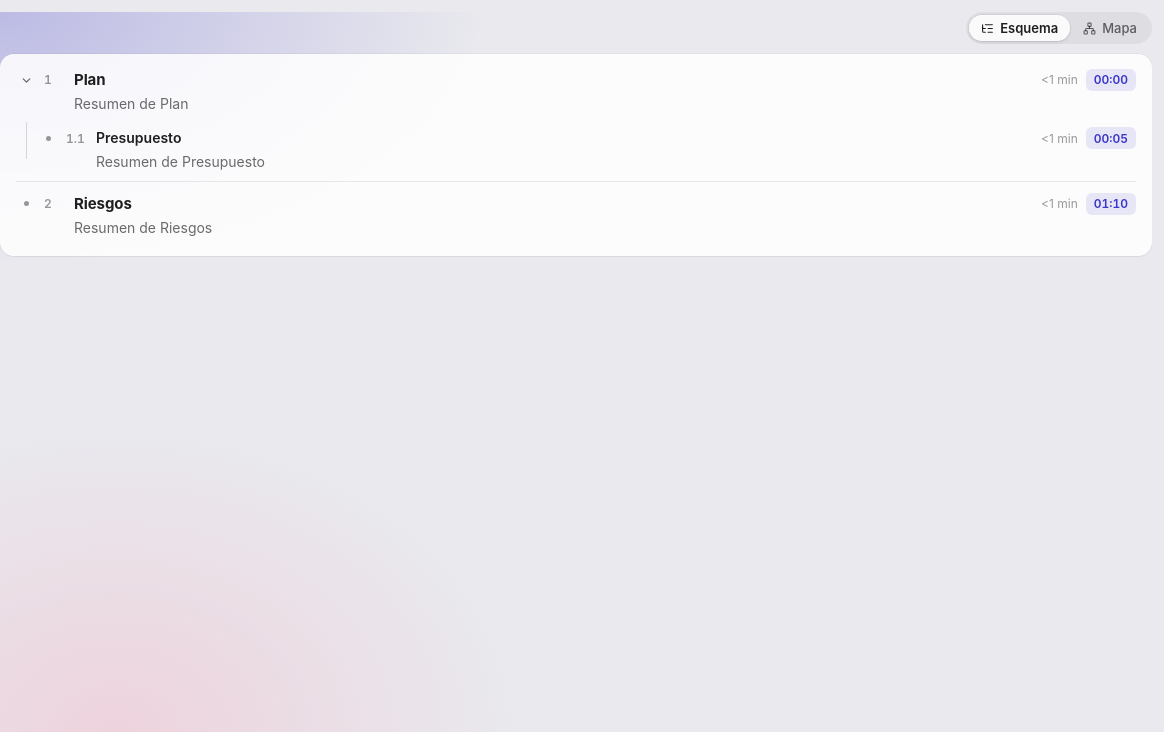
Test: EscaletaTab › pinta el árbol y colapsa subtemas
expect the text "Presupuesto" is shown: met, box left=96, top=129, right=181, bottom=146
What coordinates should you click on to do the following:
click the button named "Contraer Plan"
I would click on:
 (26, 80)
Its box is left=16, top=70, right=36, bottom=90.
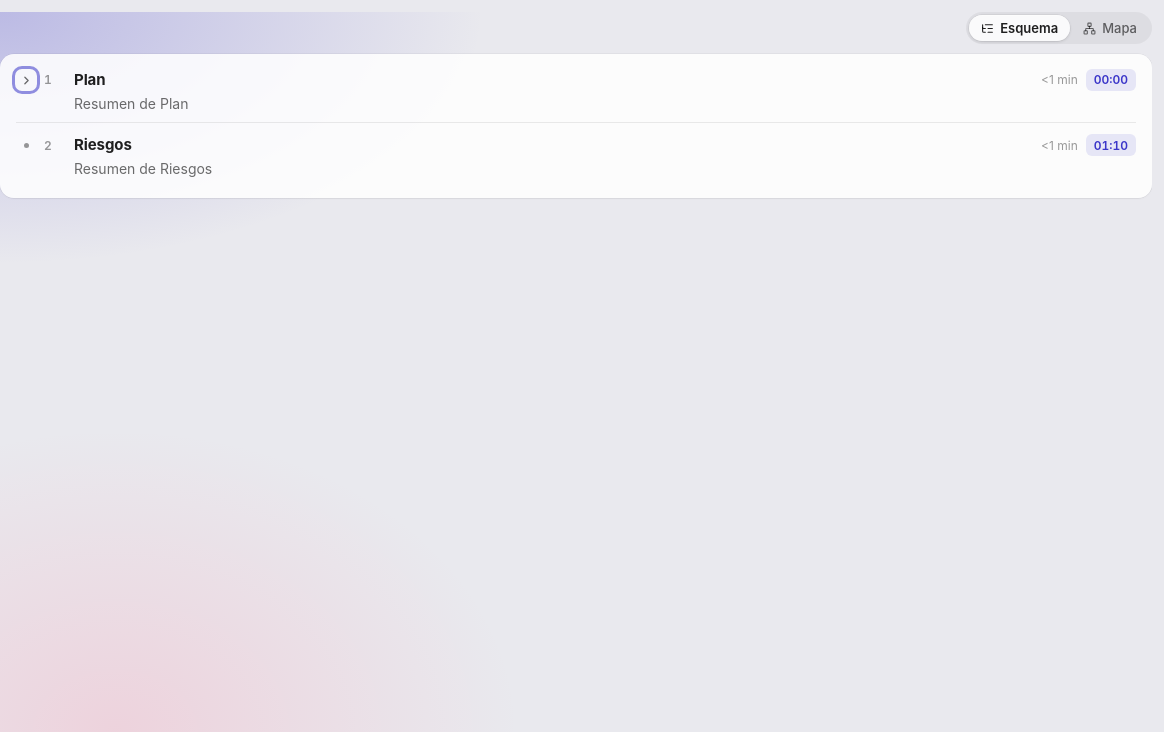
expect the text "Presupuesto" is gone: met
What coordinates should you click on to do the following:
click the button named "Expandir Plan"
I would click on:
 (26, 80)
Its box is left=16, top=70, right=36, bottom=90.
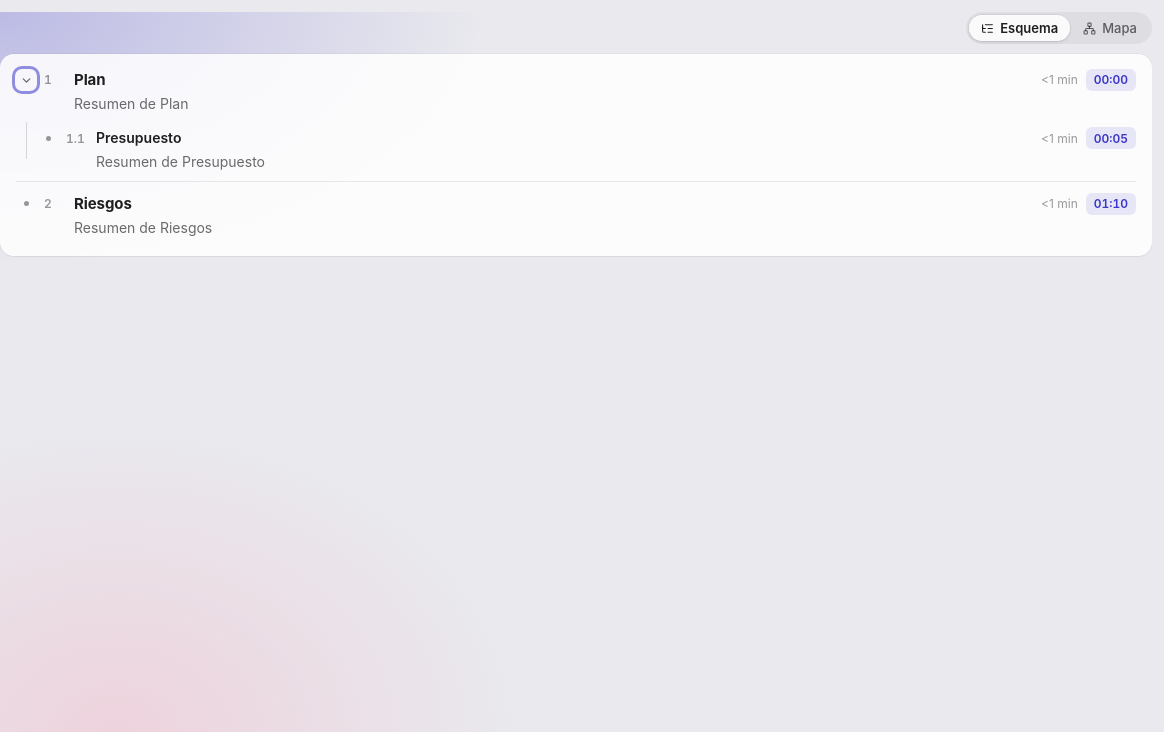
expect the text "Presupuesto" is shown: met, box left=96, top=129, right=181, bottom=146
